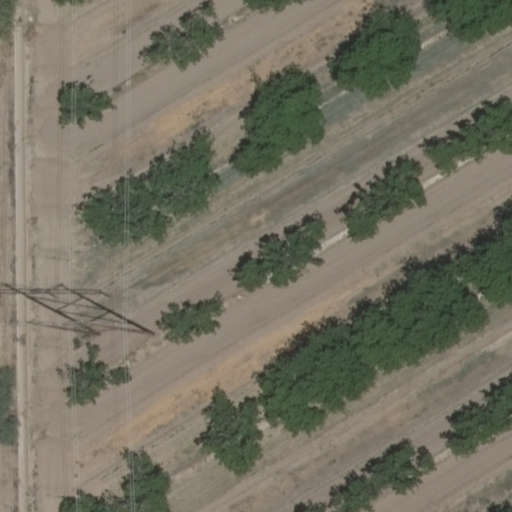TT: (10, 282, 156, 339)
